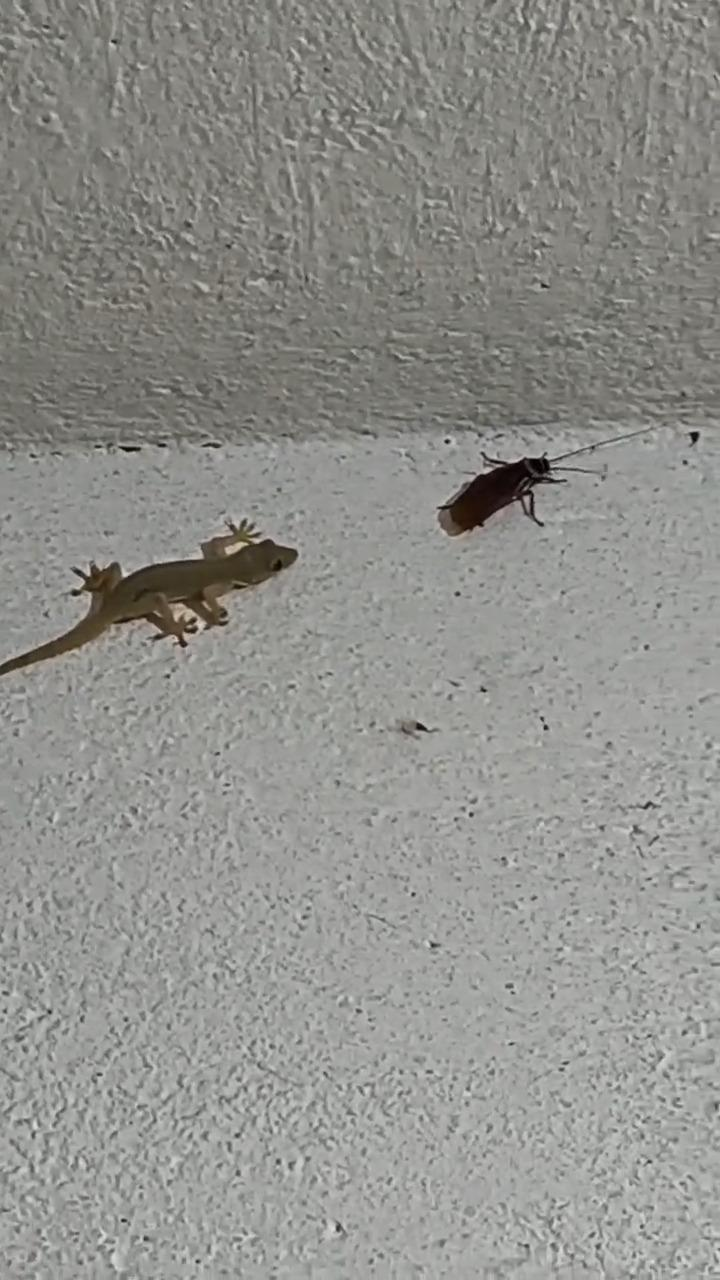cockroach: (410, 433, 601, 552)
lizard: (0, 498, 307, 686)
